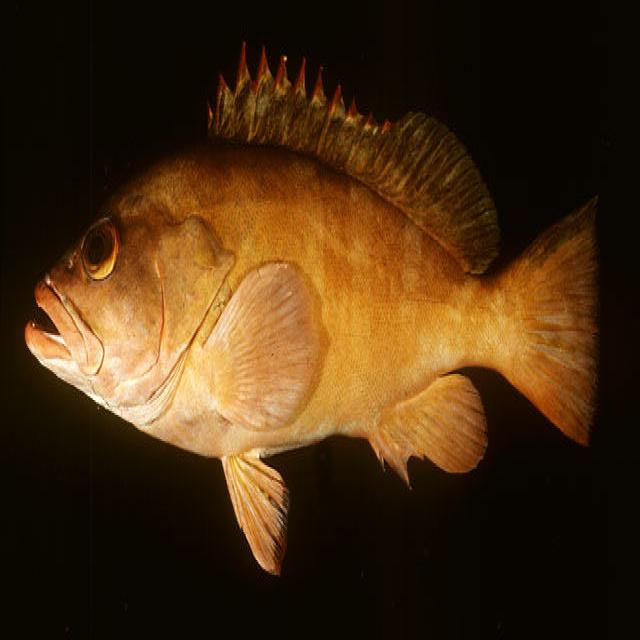ikan: (20, 55, 604, 586)
